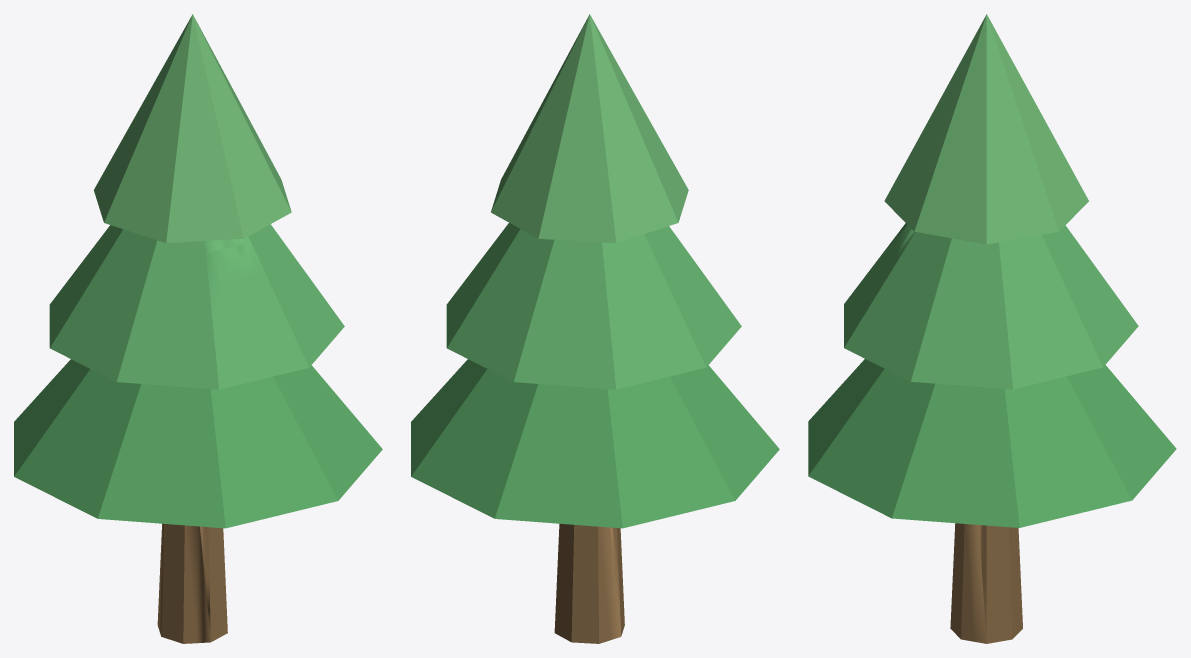
The model's file is tree.glb.
3 views of the same model, side by side, from view 1: azimuth 30°, elevation 25°; view 2: azimuth 150°, elevation 25°; view 3: azimuth 270°, elevation 25° (orthographic).
Parts seen in each view (by area): view 1: TreeTrunk; view 2: TreeTrunk; view 3: TreeTrunk.
Part boxes in pixels (x1=…): TreeTrunk: x1=14, y1=14, x2=382, y2=643; TreeTrunk: x1=411, y1=14, x2=779, y2=643; TreeTrunk: x1=808, y1=14, x2=1176, y2=643.
Bounding box in the file's own units: 2.27 × 4.11 × 2.23.
